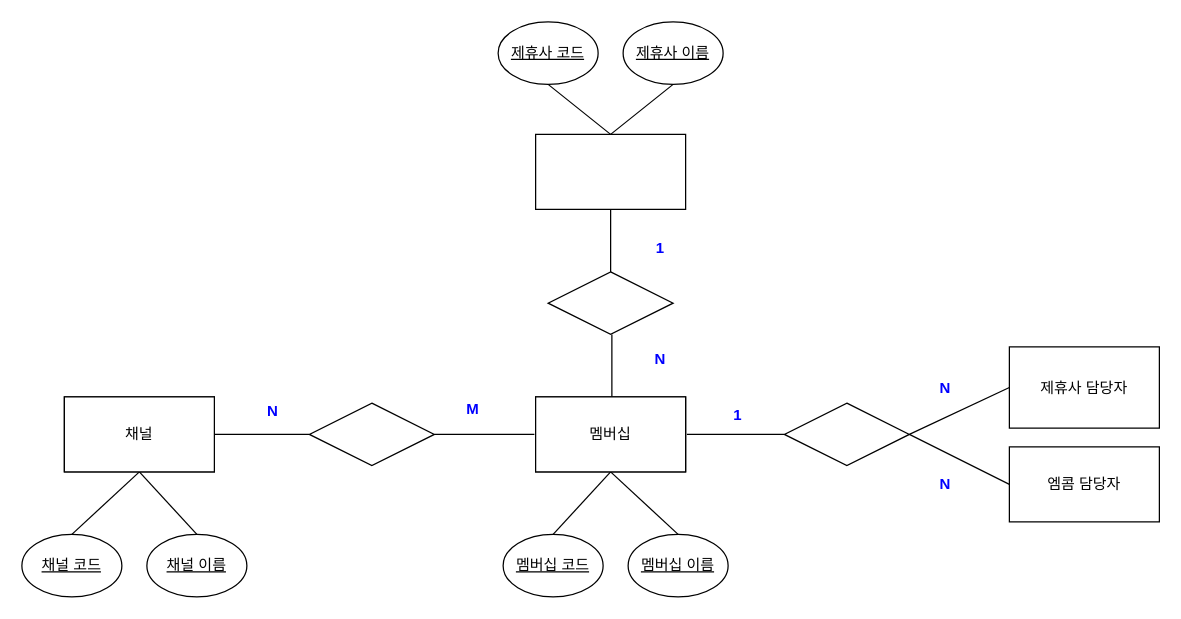
Some shapes in this 1181 by 619 pixel diagram are drawn without their labels. Each missing label, with the centre of its shape:
"매핑" goes at pixel 371 434.
"속한다" goes at pixel 610 302.
"운영" goes at pixel 846 434.
"제휴사" goes at pixel 610 171.
